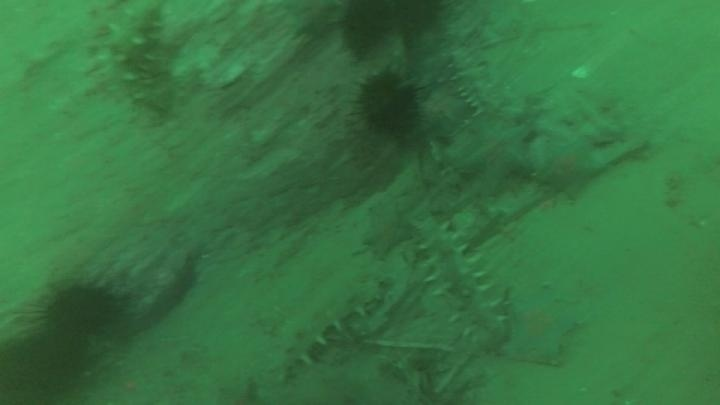echinus: (1, 331, 91, 405), (33, 276, 122, 340), (351, 67, 425, 139), (336, 1, 395, 56), (385, 1, 446, 38)
holothurian: (412, 213, 510, 348), (268, 276, 388, 381), (96, 3, 173, 118), (446, 46, 499, 119)
starfish: (454, 116, 538, 195), (500, 290, 584, 366), (535, 136, 606, 202), (415, 81, 473, 141), (360, 204, 414, 260)
